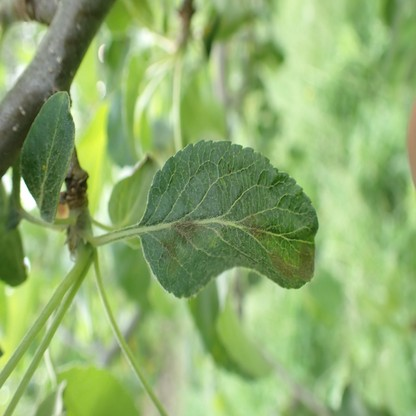scab: (162, 222, 201, 277), (271, 243, 315, 281), (239, 217, 271, 239), (209, 233, 221, 249)
